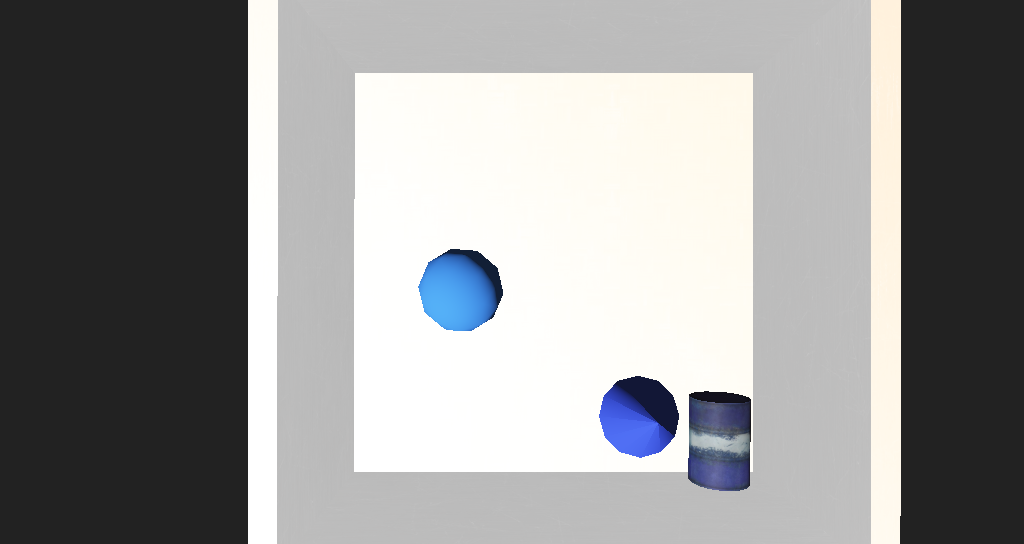cone: (600, 332, 653, 384)
cylinder: (539, 320, 606, 377)
sphere: (408, 253, 468, 301)
